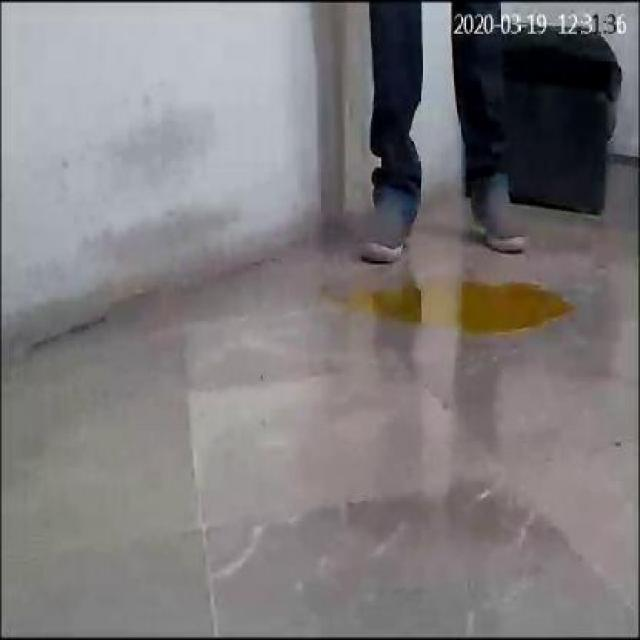spill: (346, 280, 574, 336)
